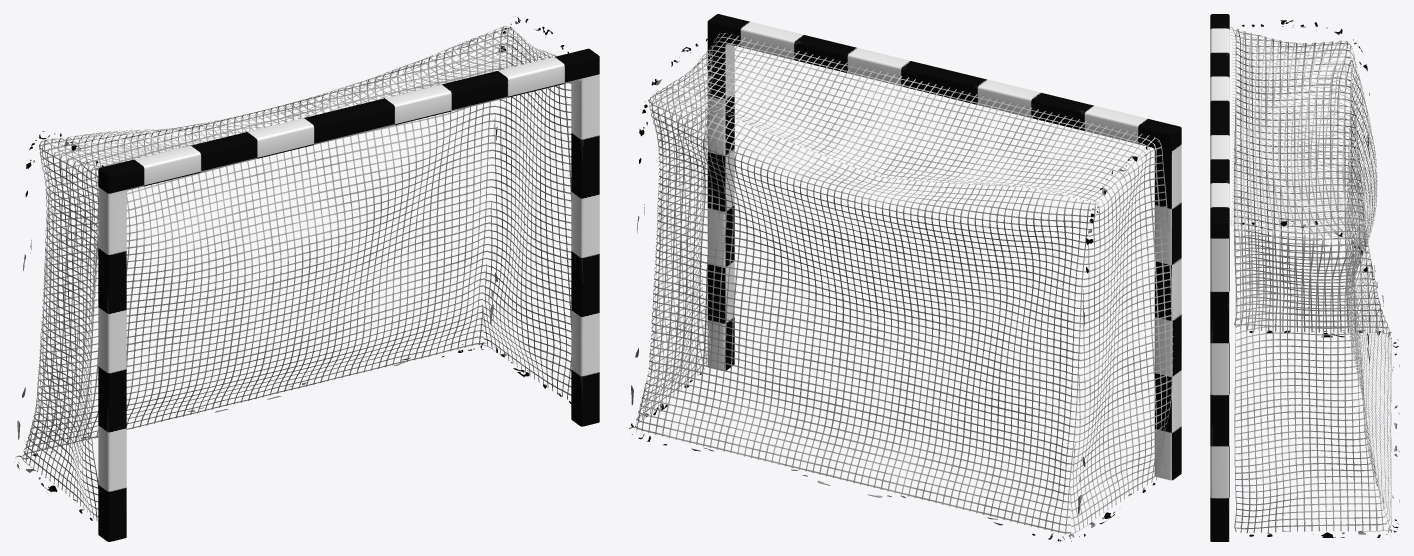
Rendered from Goal.fbx.
3 renders of one model, left to right at view 1: azimuth 30°, elevation 25°; view 2: azimuth 150°, elevation 25°; view 3: azimuth 270°, elevation 25°, orthographic. The views are drawn at different scales.
Parts seen in each view (by area): view 1: Net.001, Pole, pole.001; view 2: Net.001, Pole, pole.001; view 3: Net.001, Pole, pole.001.
Boxes of the visible parts, left/top/right/bottom form: Net.001: left=22, top=26, right=571, bottom=520; Pole: left=98, top=48, right=599, bottom=541; pole.001: left=14, top=17, right=571, bottom=520; Net.001: left=635, top=33, right=1173, bottom=534; Pole: left=707, top=14, right=1181, bottom=480; pole.001: left=629, top=35, right=1155, bottom=541; Net.001: left=1230, top=27, right=1391, bottom=533; Pole: left=1210, top=14, right=1229, bottom=541; pole.001: left=1242, top=20, right=1399, bottom=537.
Size of the model in its own units: 284 by 200 by 107.
Materials: 3 (3 with a texture image).
